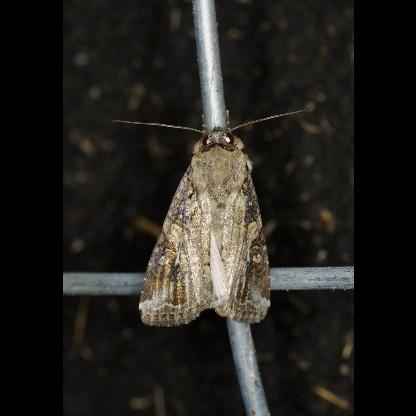Fall Armyworm Moth: (109, 104, 313, 330)
